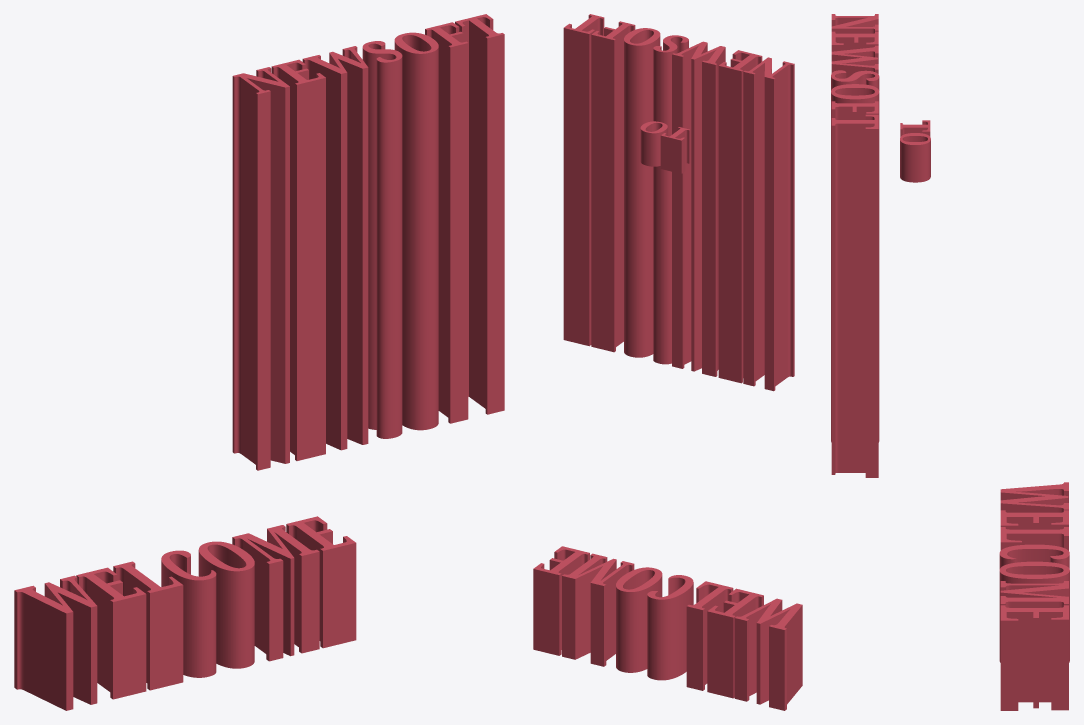
The model's file is WlcomeNSS.glb.
3 renders of one model, left to right at view 1: azimuth 30°, elevation 25°; view 2: azimuth 150°, elevation 25°; view 3: azimuth 270°, elevation 25°, orthographic. The views are drawn at different scales.
Visible parts, largest first — view 1: Mesh_Mesh_head_geo.001_lambert2SG.001; view 2: Mesh_Mesh_head_geo.001_lambert2SG.001; view 3: Mesh_Mesh_head_geo.001_lambert2SG.001.
Boxes of the visible parts, <box> form: Mesh_Mesh_head_geo.001_lambert2SG.001: <box>14,14,504,710</box>; Mesh_Mesh_head_geo.001_lambert2SG.001: <box>533,14,802,710</box>; Mesh_Mesh_head_geo.001_lambert2SG.001: <box>831,14,1069,710</box>.
Bounding box in the file's own units: 115 × 196 × 69.4.
